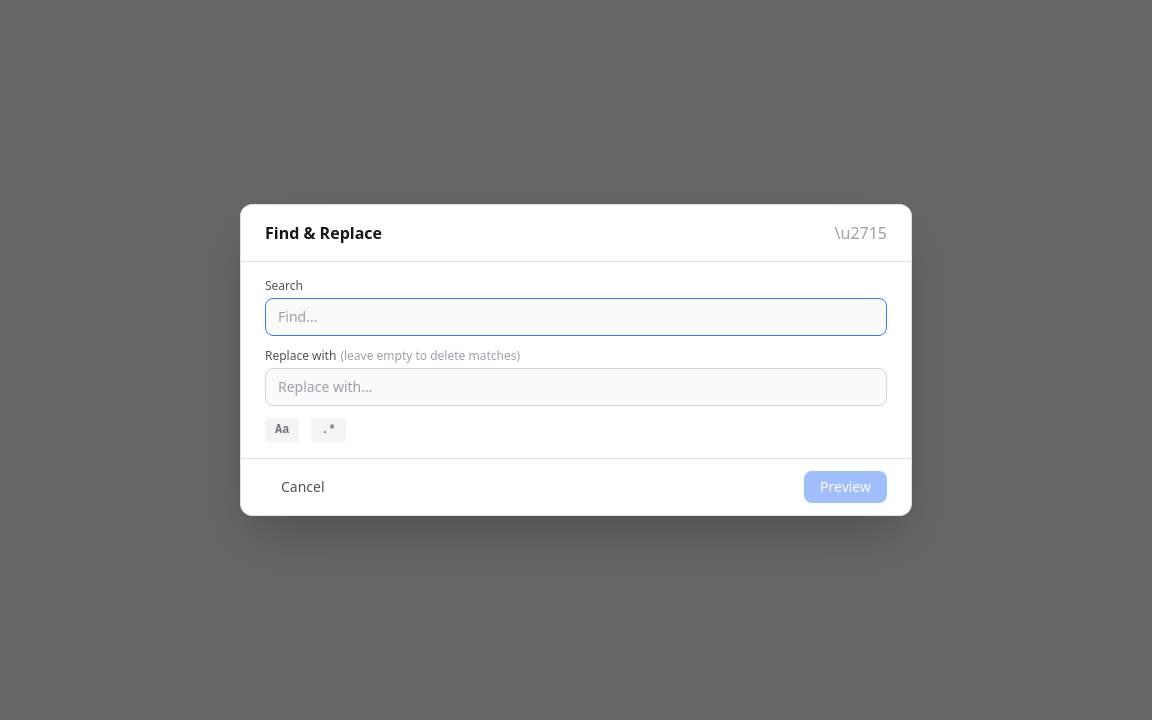
Scenario: FindReplaceModal › previews matches per chapter with expandable highlighted locations
Type "whilst" into the field with placeholder "Find…". click: (576, 317)
box: [265, 298, 887, 336]
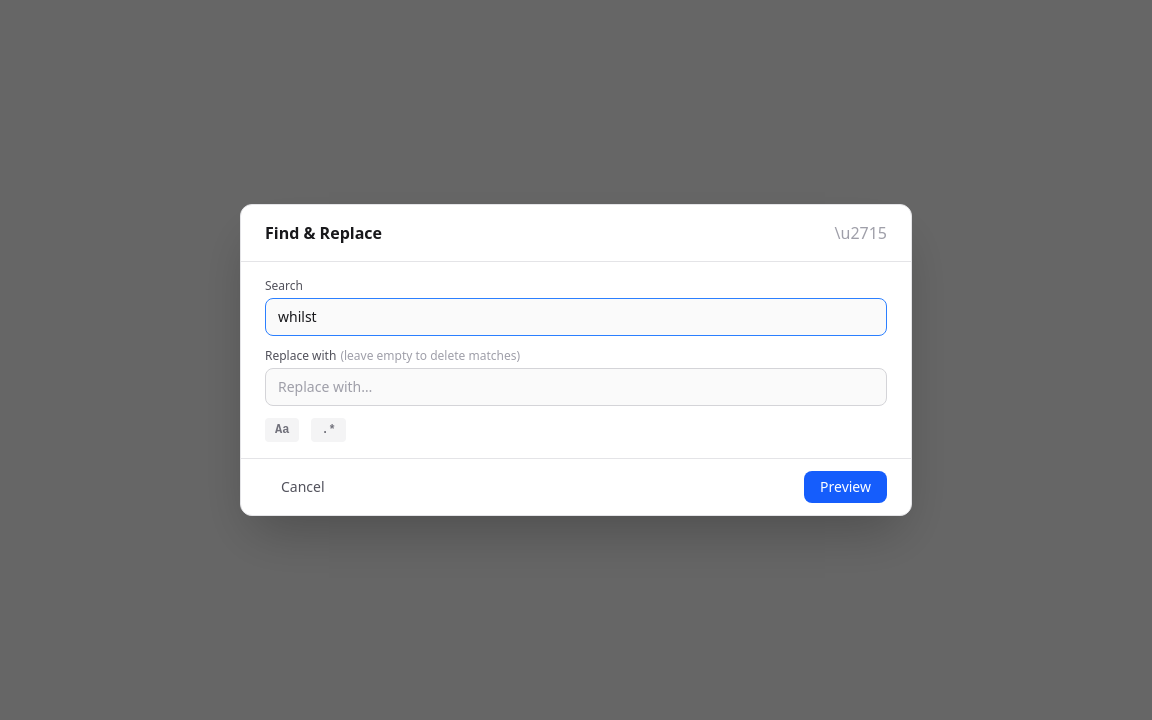
Click the button "Preview". click: (846, 487)
box: [804, 471, 887, 503]
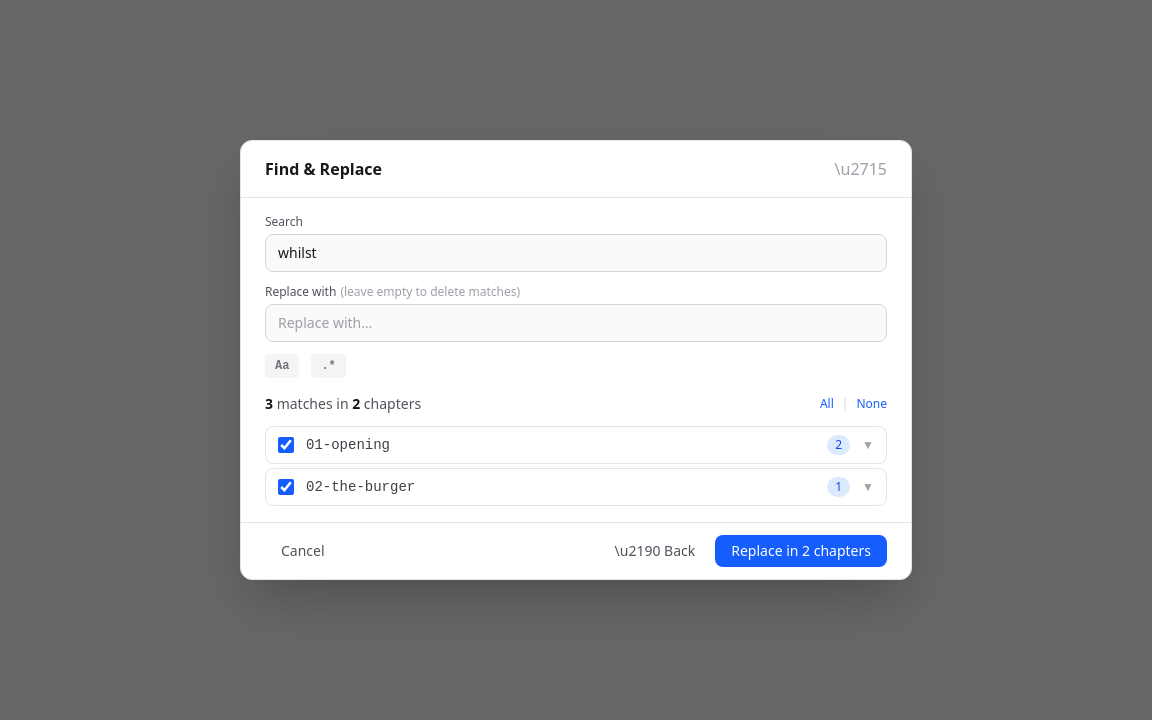
Now the text "01-opening" is shown, box [306, 437, 390, 453]
Now the text "3" reads "3 matches in 2 chapters", box [265, 394, 421, 414]
Now the text "02-the-burger" is shown, box [306, 479, 415, 495]
Click the button titled "Expand matches" in the row of "01-opening". click: (868, 445)
box: [862, 437, 874, 453]
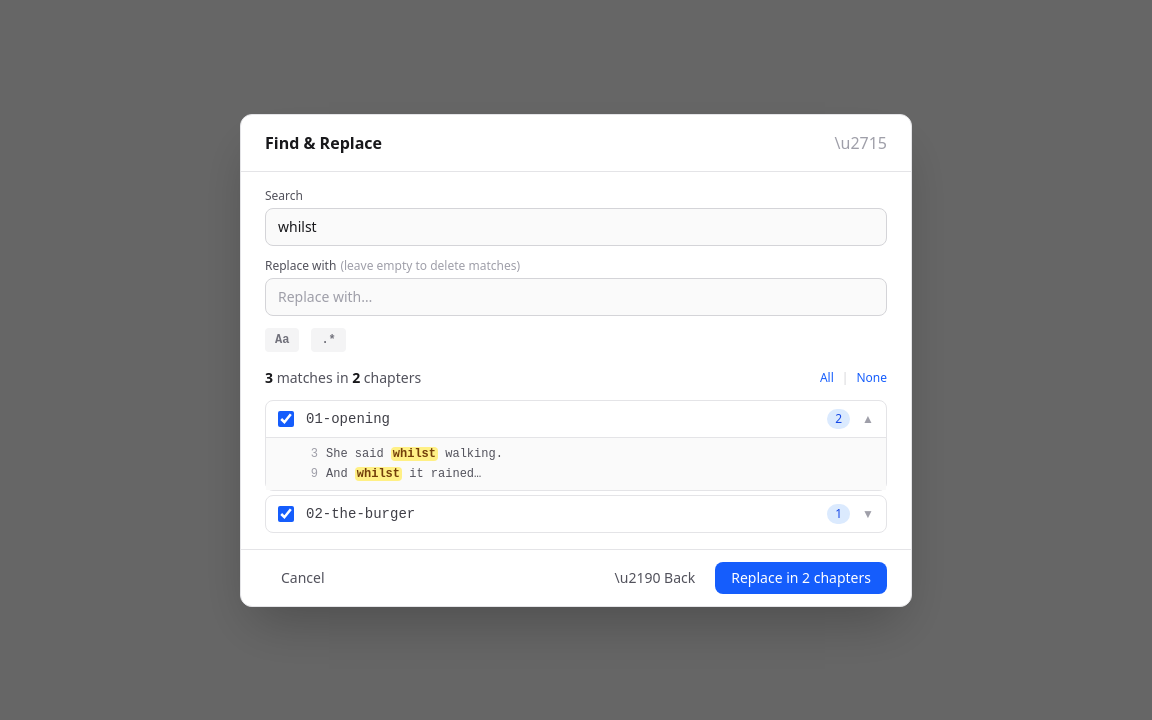
Now the text "whilst" next to "She said" is shown, box [393, 446, 436, 460]
